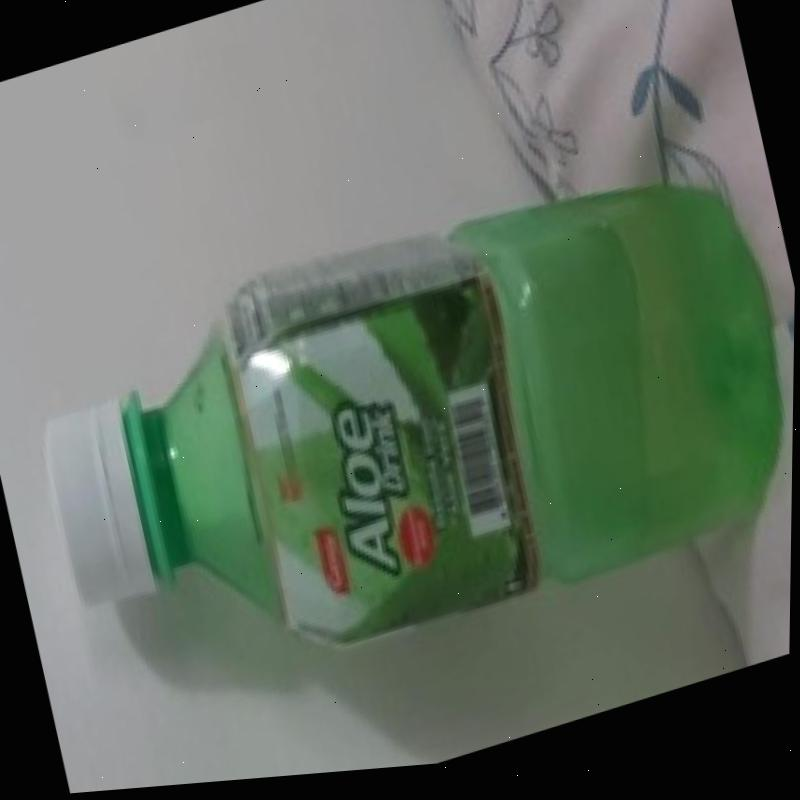botella: (9, 135, 798, 740)
